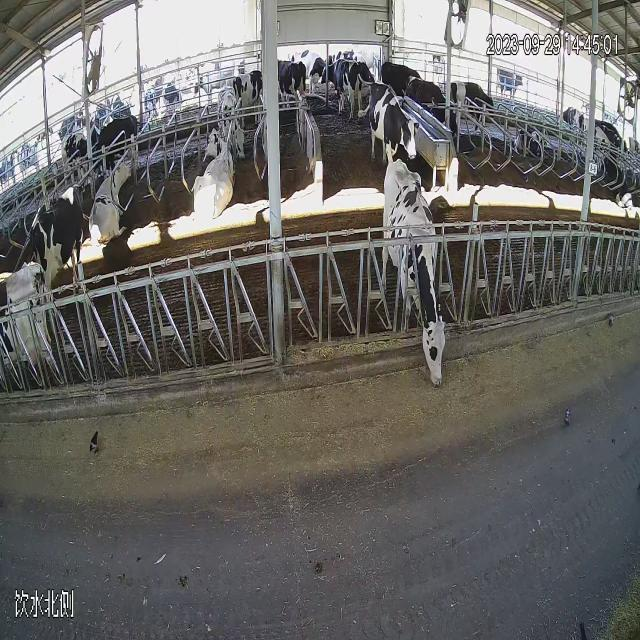feeding: (386, 156, 454, 408), (214, 78, 247, 162)
lying down: (194, 126, 234, 231), (89, 154, 132, 249), (512, 103, 547, 174)
standing: (25, 176, 89, 321), (370, 81, 426, 166), (87, 108, 142, 190), (320, 60, 364, 118), (452, 76, 502, 122), (276, 58, 308, 102)
